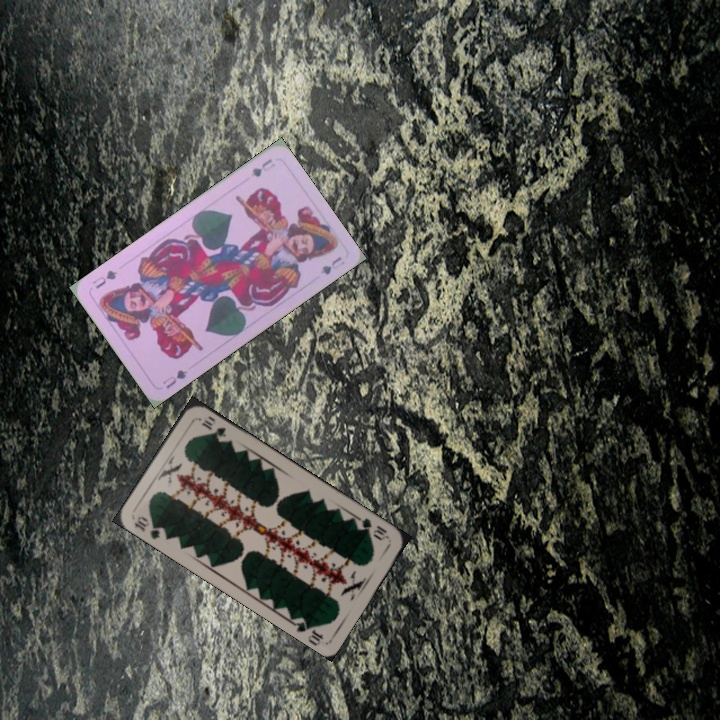G10: (355, 514, 391, 543), (130, 512, 163, 542)
GU: (159, 365, 190, 391), (247, 154, 278, 180)
